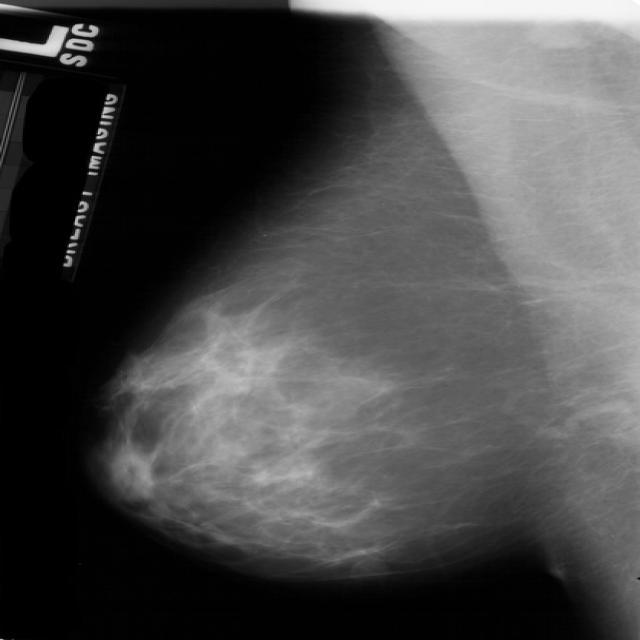tumour: (348, 556, 384, 578)
